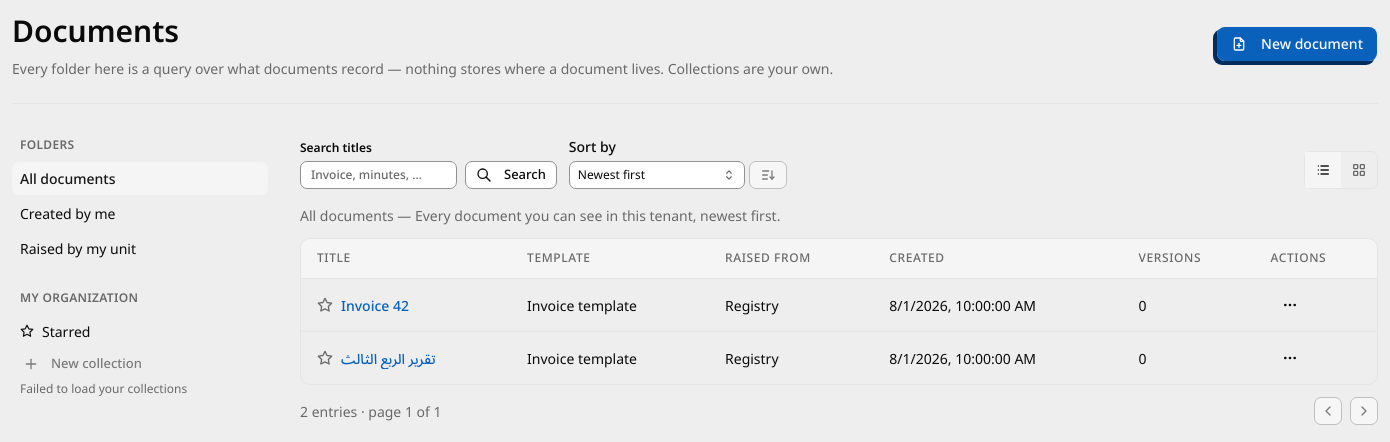
Test case: controls the caller cannot use › disables creating and filing — with the reason — when the collection list could not be read
Expected: the link "Invoice 42" is shown, [341,294,409,316]
Expected: the button "New collection" is disabled, [12,350,268,378]
Step 1. Click the button named "Document actions" in the row of "Invoice 42" → x=1290, y=305, box [1270,291,1308,319]
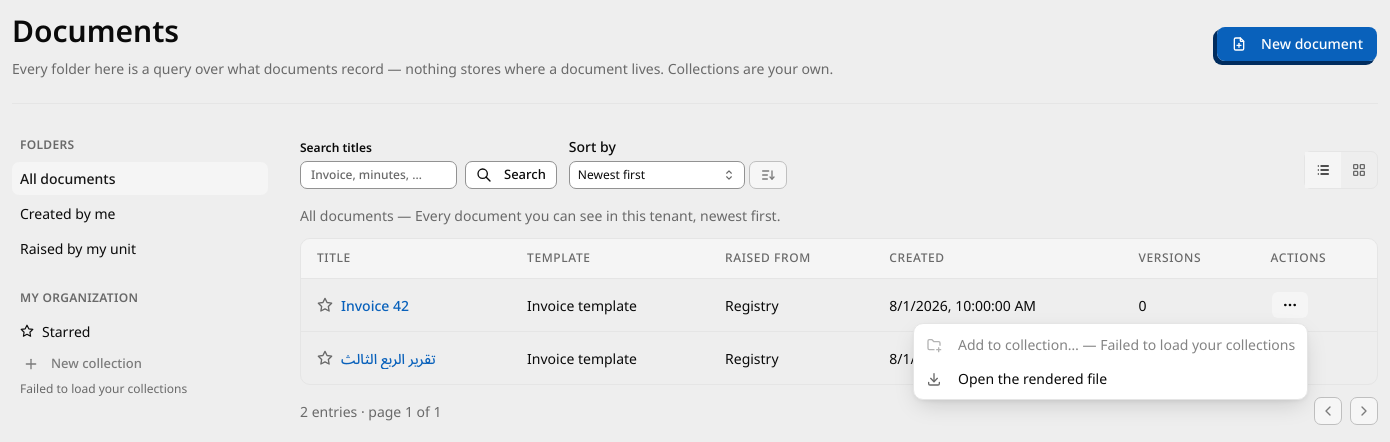
Expected: the menu item "Add to collection… — Failed to load your collections" is shown, [926,335,1295,354]
